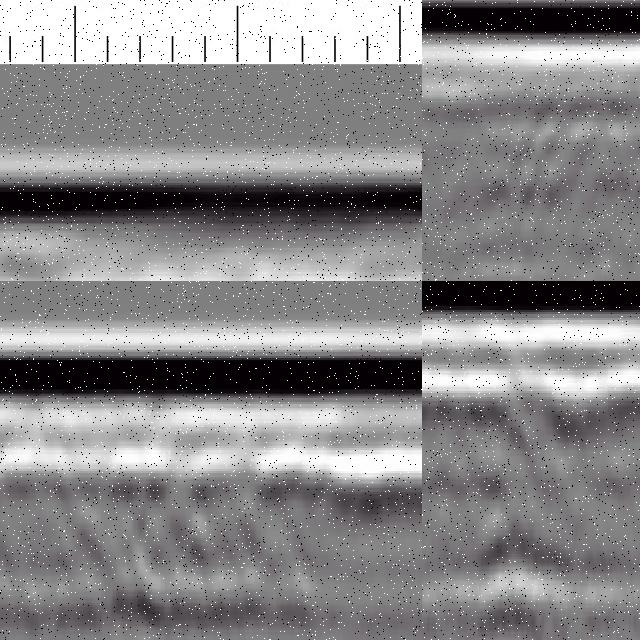loose: (1, 430, 313, 624), (446, 378, 598, 631)
